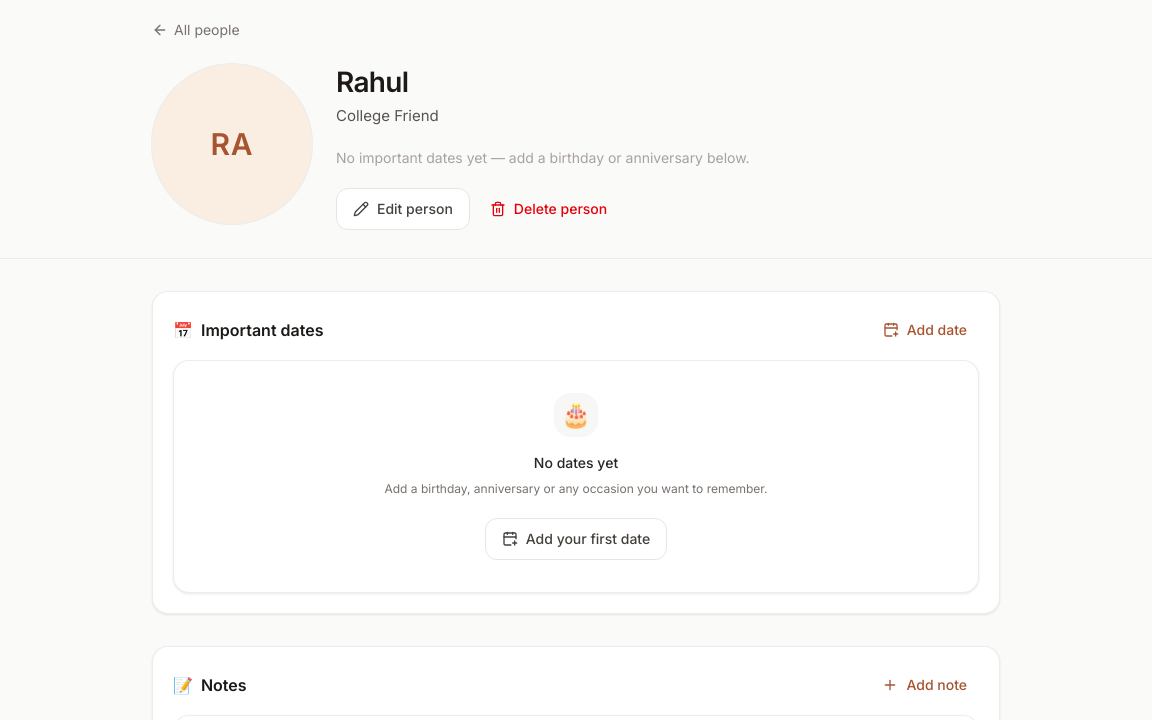
Test case: PersonProfilePage › adds a custom recurring event from the profile
Check: the heading "Rahul" is shown, box [336,65,408,99]
Click the button "Add date". click: [925, 330]
box: [871,312,979,348]
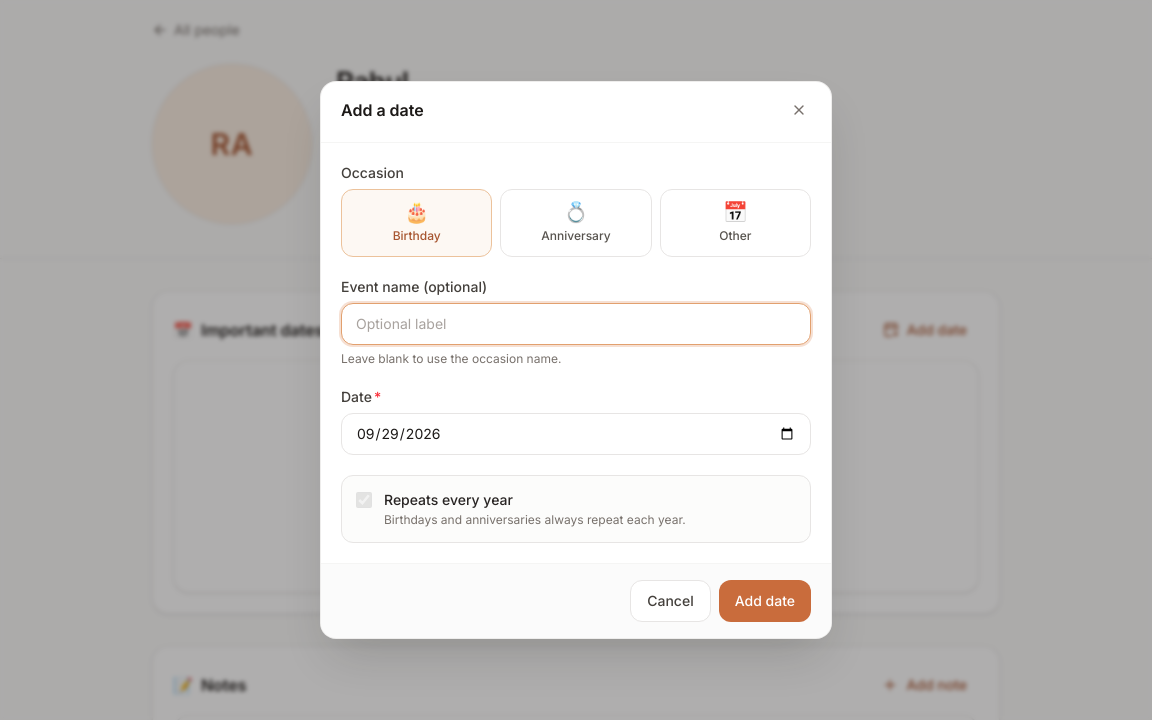
Click the button "📅 Other". click: [735, 223]
box: [660,189,811,257]
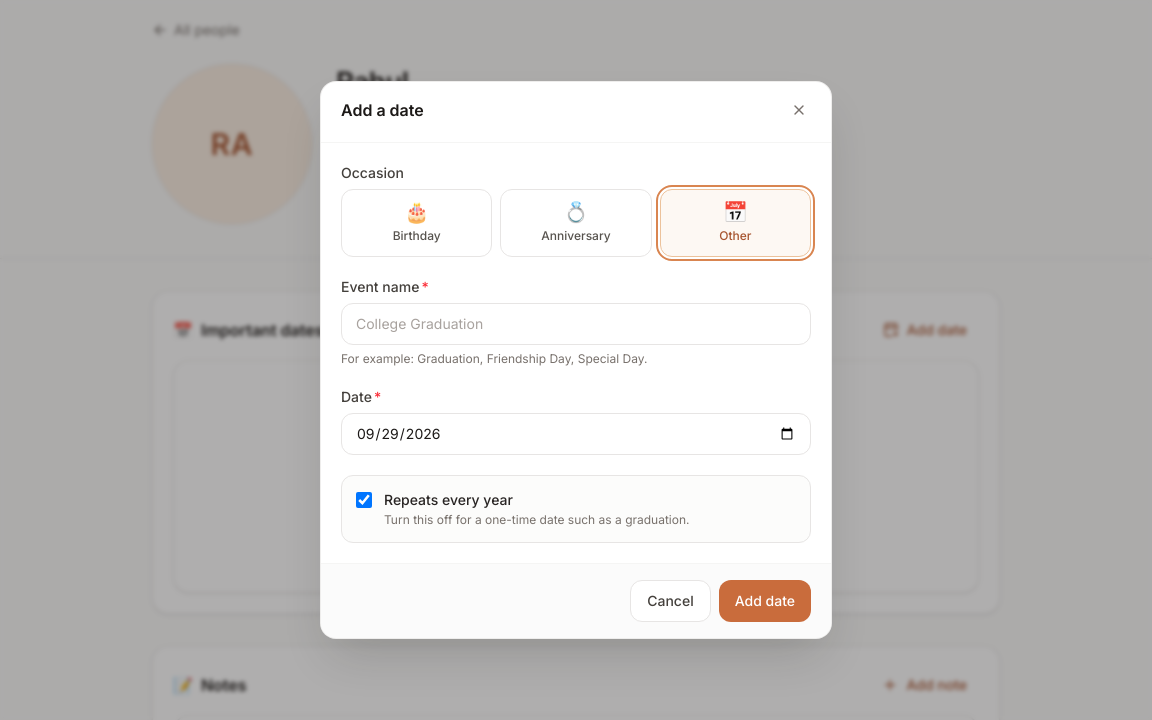
Type "Friendship Day" into the field labelled "Event name*". click: [576, 324]
box: [341,303,811,345]
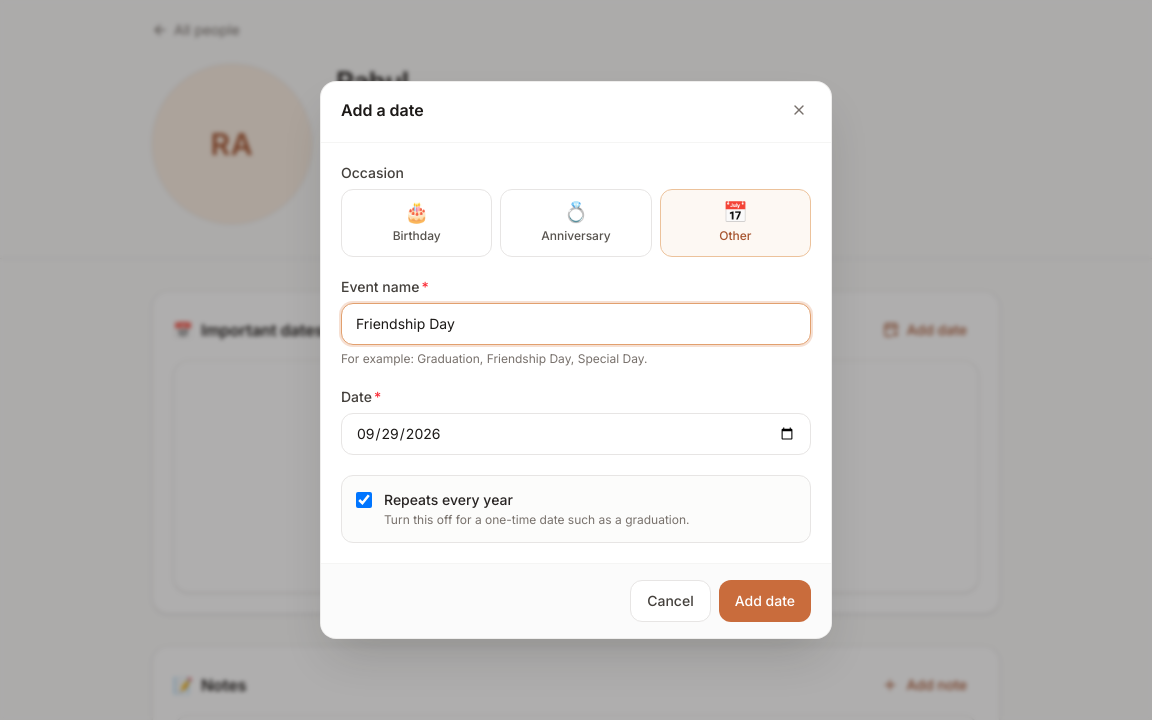
Type "2020-08-02" into the date field labelled "Date*". click: [576, 434]
box: [341,413,811,455]
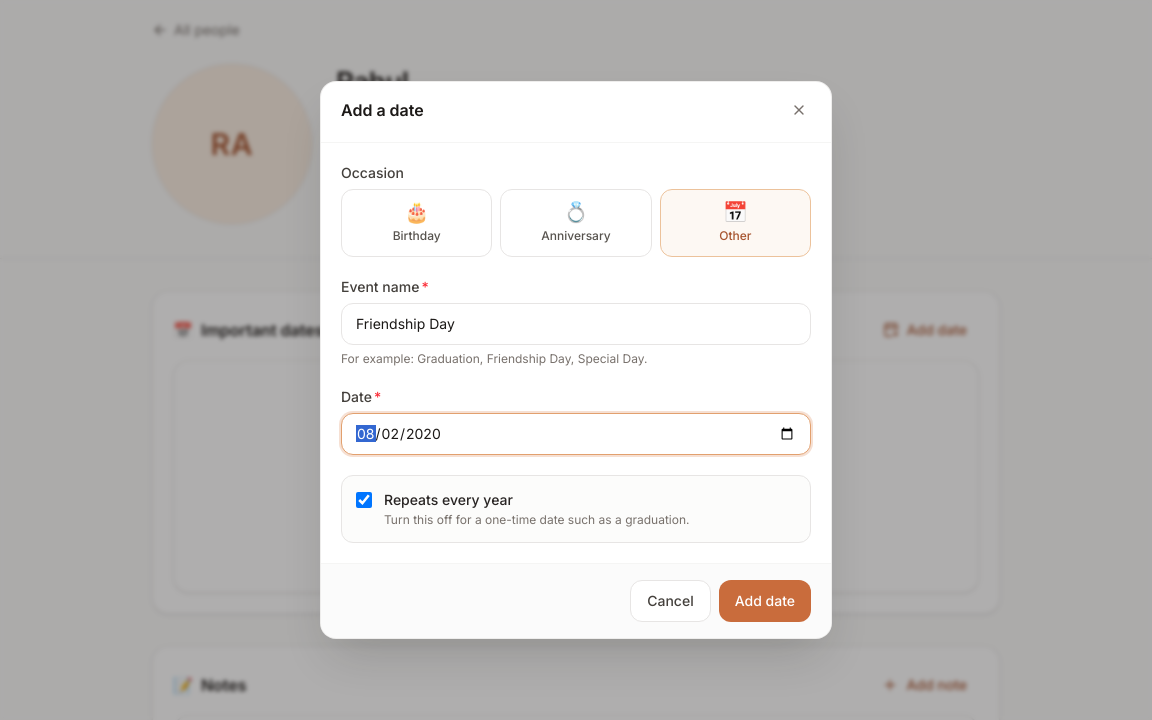
Click the button "Add date". click: [765, 601]
box: [719,580,811,622]
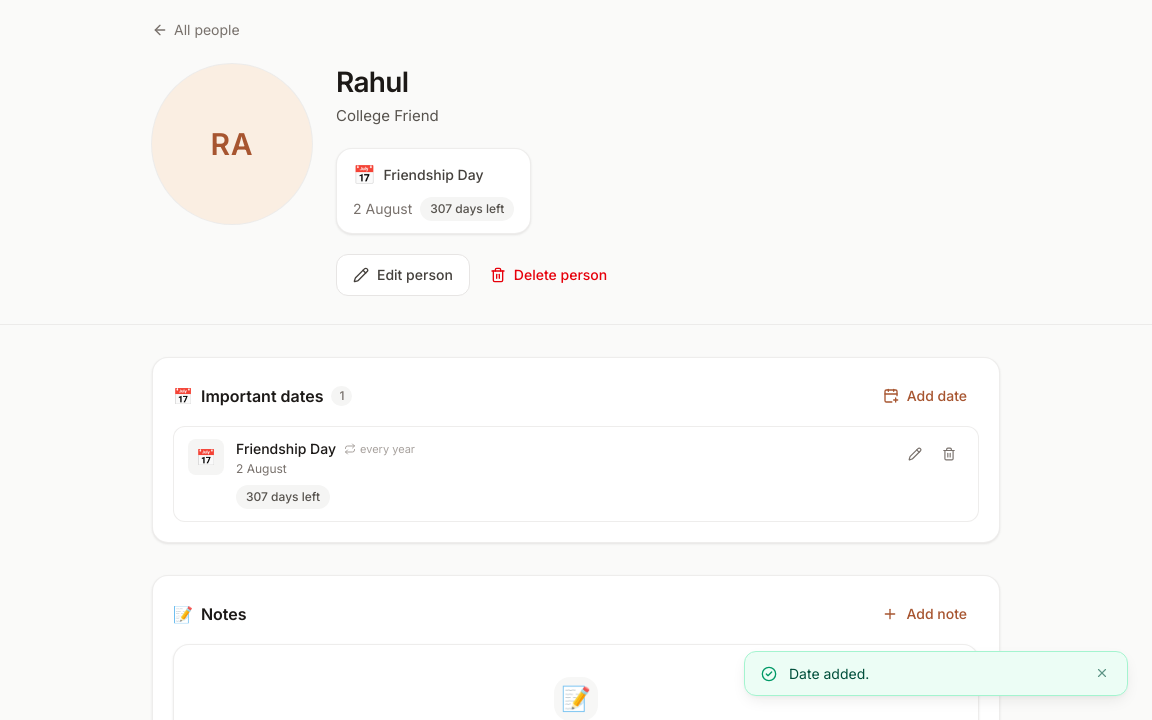
Check: the dialog is gone
